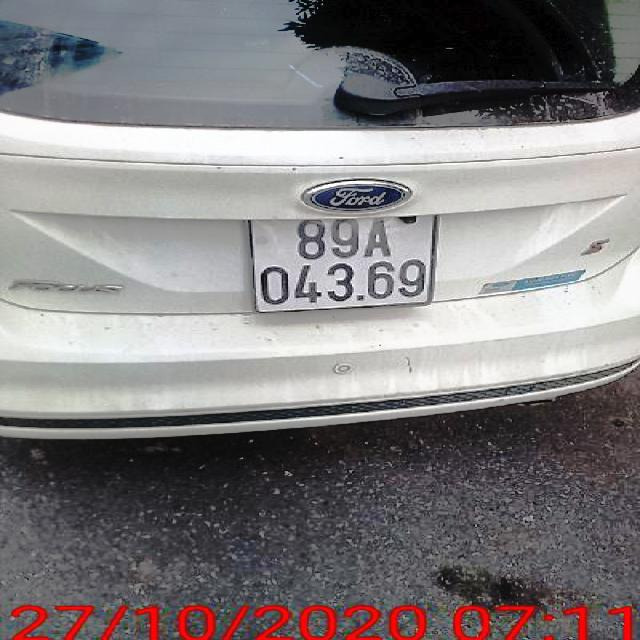license_plate: (253, 215, 441, 314)
